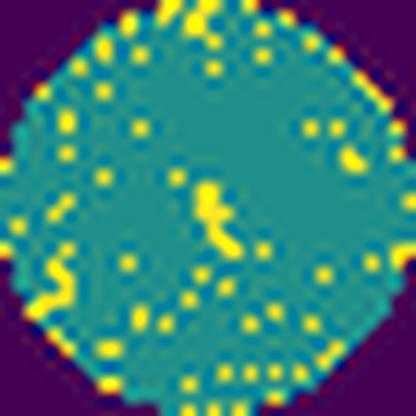Center: (194, 176, 249, 266)
